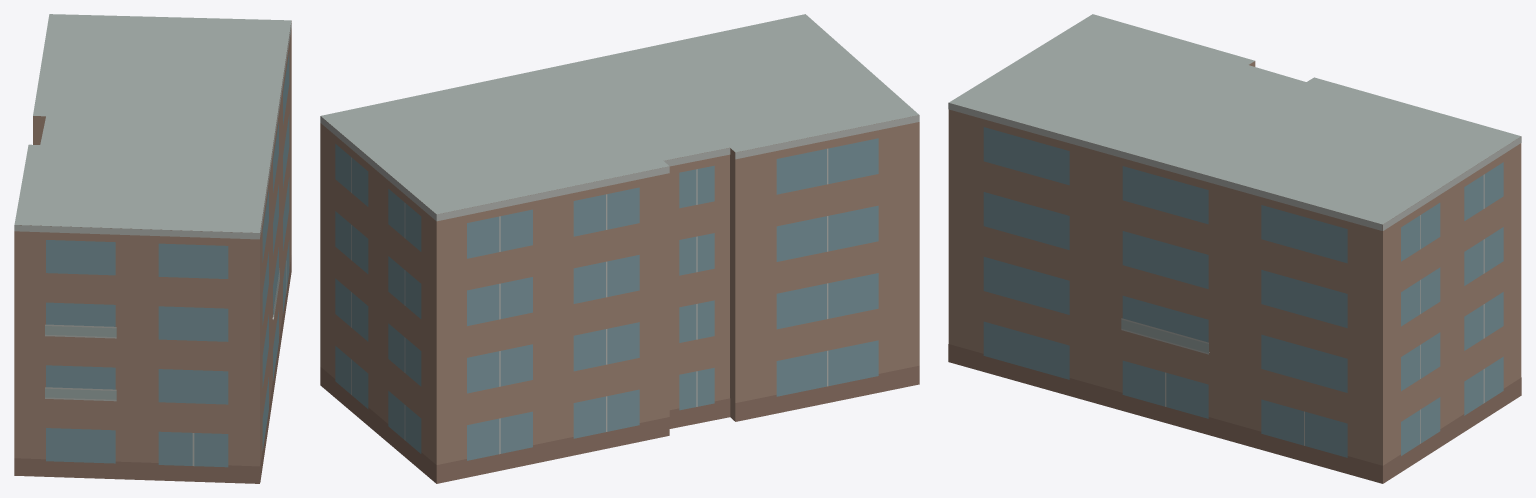
File: survey-upis-32655008.glb
3 views of the same model, side by side, from view 1: azimuth 30°, elevation 25°; view 2: azimuth 150°, elevation 25°; view 3: azimuth 270°, elevation 25° (orthographic). The views are drawn at different scales.
Parts seen in each view (by area): view 1: survey-upis-32655008.tmp; view 2: survey-upis-32655008.tmp; view 3: survey-upis-32655008.tmp.
Boxes of the visible parts, <box> form: survey-upis-32655008.tmp: <box>14,14,291,483</box>; survey-upis-32655008.tmp: <box>320,14,919,483</box>; survey-upis-32655008.tmp: <box>948,14,1521,483</box>.
Size of the model in its own units: 16.55 by 9.5 by 19.03.
